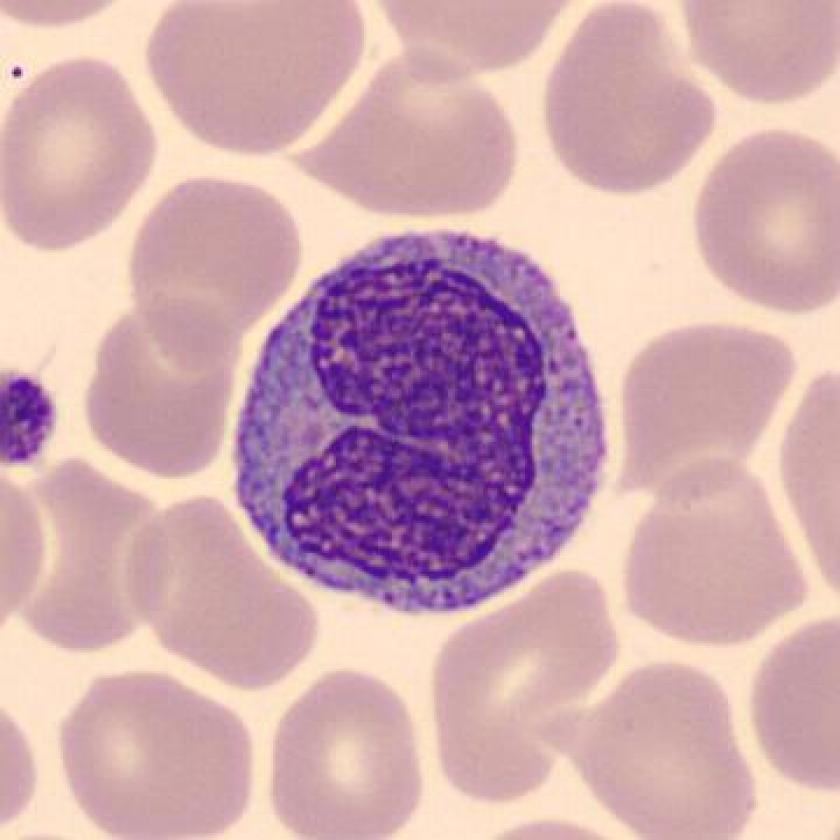monocyte: (209, 212, 626, 633)
